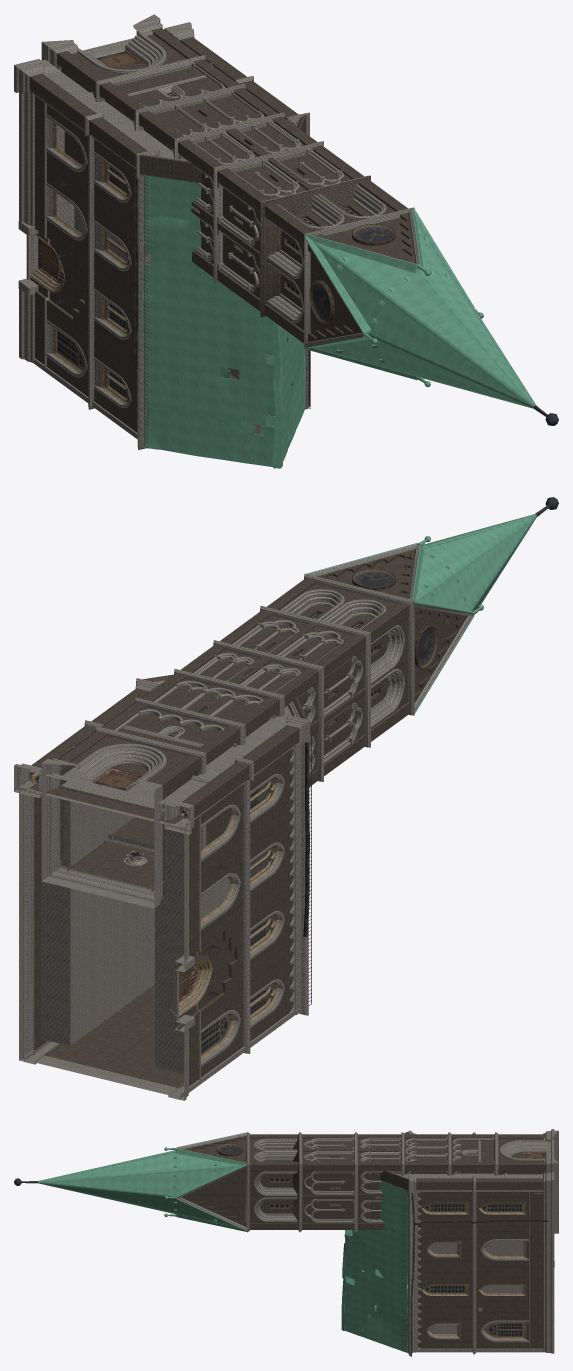
Rendered from hd_bld_EU_056_ChurchB.fbx.
3 renders of one model, top to bottom at view 1: azimuth 30°, elevation 25°; view 2: azimuth 150°, elevation 25°; view 3: azimuth 270°, elevation 25°, orthographic. The views are drawn at different scales.
Visible parts, largest first — view 1: set_0_group_4.003, set_0_group_4.005, set_0_group_0.005, set_0_group_1.005, set_0_group_5.003, set_0_group_2.005, set_0_group_7.001, set_0_group_1.003, set_0_group_4, set_0_group_6.002, set_0_group_0.003, set_0_group_5.004 (+4 smaller); view 2: set_0_group_6.002, set_0_group_5.003, set_0_group_0.005, set_0_group_2.005, set_0_group_1.005, set_0_group_0.003, set_0_group_4.005, set_0_group_3.005, set_0_group_7.001, set_0_group_1.003, set_0_group_4, set_0_group_3 (+3 smaller); view 3: set_0_group_5.003, set_0_group_1.005, set_0_group_0.005, set_0_group_4.003, set_0_group_2.005, set_0_group_4.005, set_0_group_6.002, set_0_group_7.001, set_0_group_1.003, set_0_group_0.003, set_0_group_4, set_0_group_3.005 (+4 smaller).
Boxes of the visible parts, bbox=[...] form: set_0_group_4.003: bbox=[142, 175, 305, 468]; set_0_group_4.005: bbox=[304, 208, 536, 408]; set_0_group_0.005: bbox=[77, 33, 419, 349]; set_0_group_1.005: bbox=[57, 28, 415, 343]; set_0_group_5.003: bbox=[30, 96, 292, 434]; set_0_group_2.005: bbox=[61, 34, 410, 337]; set_0_group_7.001: bbox=[30, 122, 310, 448]; set_0_group_1.003: bbox=[44, 103, 131, 409]; set_0_group_4: bbox=[29, 37, 306, 182]; set_0_group_6.002: bbox=[33, 93, 308, 449]; set_0_group_0.003: bbox=[18, 91, 38, 362]; set_0_group_5.004: bbox=[96, 49, 558, 425]; set_0_group_6.002: bbox=[24, 742, 308, 1099]; set_0_group_5.003: bbox=[34, 750, 292, 1088]; set_0_group_0.005: bbox=[74, 544, 473, 865]; set_0_group_2.005: bbox=[60, 557, 456, 889]; set_0_group_1.005: bbox=[57, 544, 473, 893]; set_0_group_0.003: bbox=[19, 782, 194, 1100]; set_0_group_4.005: bbox=[306, 514, 536, 713]; set_0_group_3.005: bbox=[41, 623, 352, 908]; set_0_group_7.001: bbox=[168, 734, 311, 1060]; set_0_group_1.003: bbox=[46, 774, 284, 1079]; set_0_group_4: bbox=[29, 674, 307, 824]; set_0_group_3: bbox=[38, 706, 291, 816]; set_0_group_5.003: bbox=[369, 1192, 554, 1348]; set_0_group_1.005: bbox=[181, 1132, 545, 1231]; set_0_group_0.005: bbox=[177, 1132, 546, 1232]; set_0_group_4.003: bbox=[341, 1180, 407, 1352]; set_0_group_2.005: bbox=[192, 1138, 542, 1221]; set_0_group_4.005: bbox=[37, 1132, 247, 1231]; set_0_group_6.002: bbox=[362, 1190, 543, 1355]; set_0_group_7.001: bbox=[402, 1191, 548, 1356]; set_0_group_1.003: bbox=[426, 1190, 529, 1354]; set_0_group_0.003: bbox=[543, 1192, 554, 1353]; set_0_group_4: bbox=[380, 1131, 542, 1190]; set_0_group_3.005: bbox=[317, 1130, 558, 1233].
Size of the model in its own units: 1684 by 2826 by 7575.
Materials: 18 (18 with a texture image).
